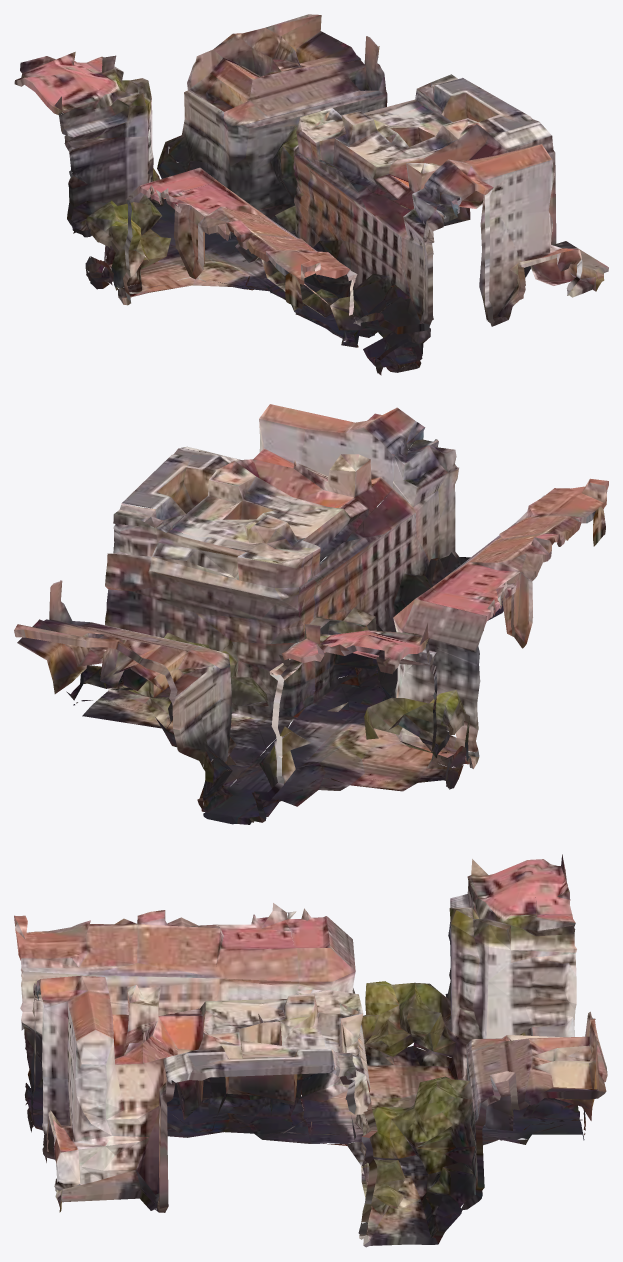
3 views of the same model, one above another, from view 1: azimuth 30°, elevation 25°; view 2: azimuth 150°, elevation 25°; view 3: azimuth 270°, elevation 25° (orthographic). The views are drawn at different scales.
Visible parts, largest first — view 1: Mesh_0; view 2: Mesh_0; view 3: Mesh_0.
Boxes of the visible parts, box(x1,y1,x2,y2) form: Mesh_0: box(14, 14, 608, 375); Mesh_0: box(14, 404, 608, 824); Mesh_0: box(14, 854, 607, 1247).
Size of the model in its own units: 66.59 by 32.22 by 82.54.
Materials: 1 (1 with a texture image).
